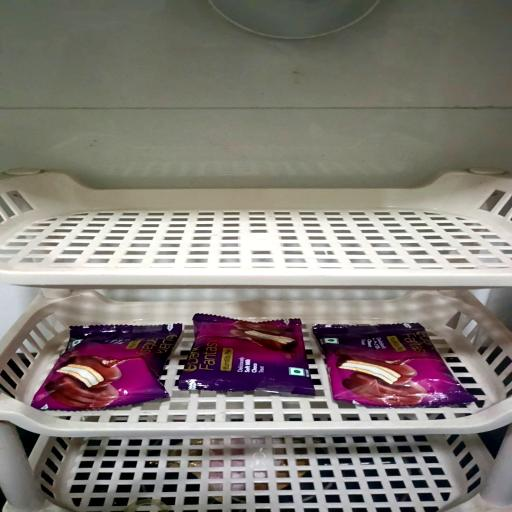Choco Pie: (312, 322, 478, 408), (31, 324, 181, 410), (179, 315, 317, 394)
